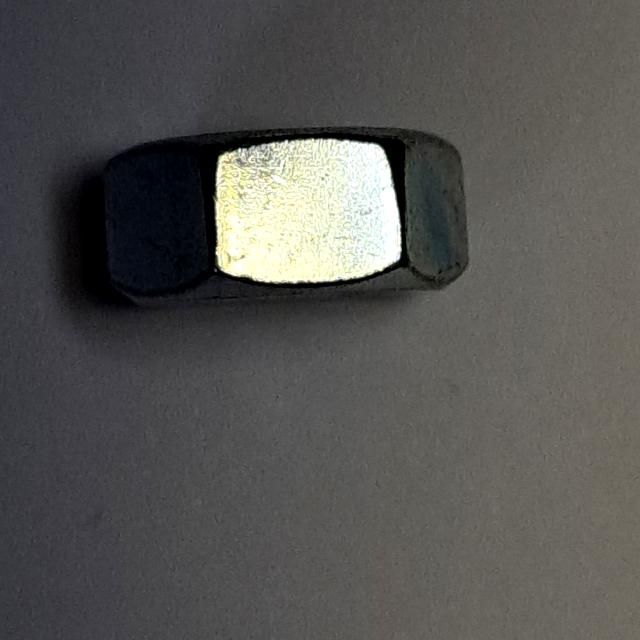Side_Excellent: (87, 113, 486, 332)
